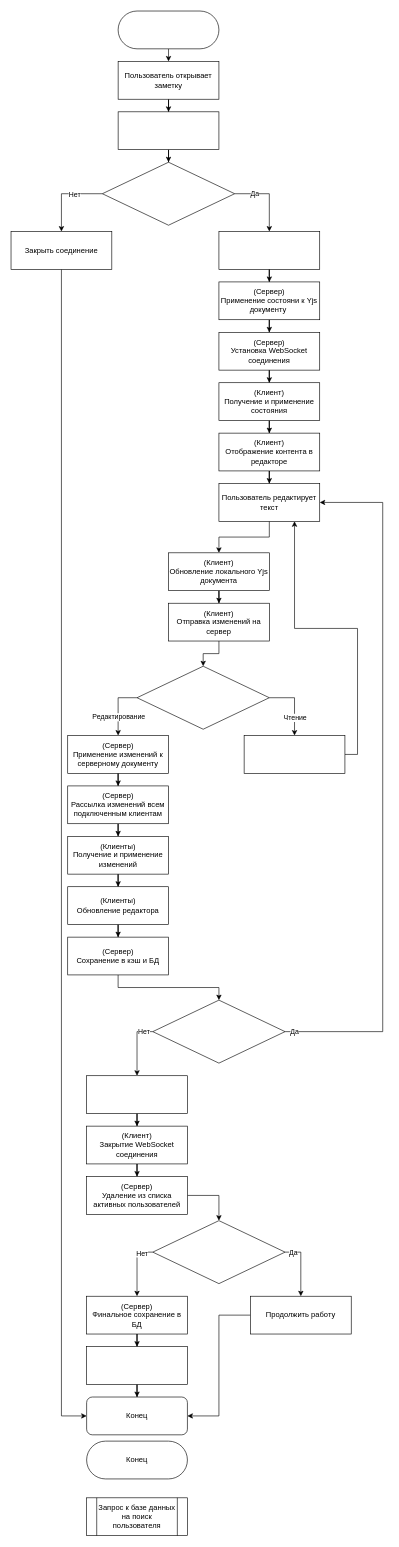
The diagram is 399 pixels wide and 1547 high, and some of its shapes have lost their labels. Each missing label, with the box of its shape:
(Клиент) Создание WebSocket соединения: (117, 111, 219, 150)
(Сервер) Загрузка состояния документа: (218, 231, 320, 269)
(Сервер) проверка авторизации и прав доступа выполнена успешно?: (102, 162, 235, 225)
(Сервер) проверка прав на редактирование: (136, 666, 269, 729)
(Сервер) Уничтожение документа из памяти: (86, 1346, 187, 1384)
Блокировка изменений: (243, 735, 345, 773)
Ещё есть подключенные клиенты?: (152, 1220, 285, 1284)
Начало: (117, 10, 219, 49)
Пользователь закрывает редактор: (86, 1075, 187, 1114)
Пользователь продолжает редактировать?: (152, 999, 285, 1063)
